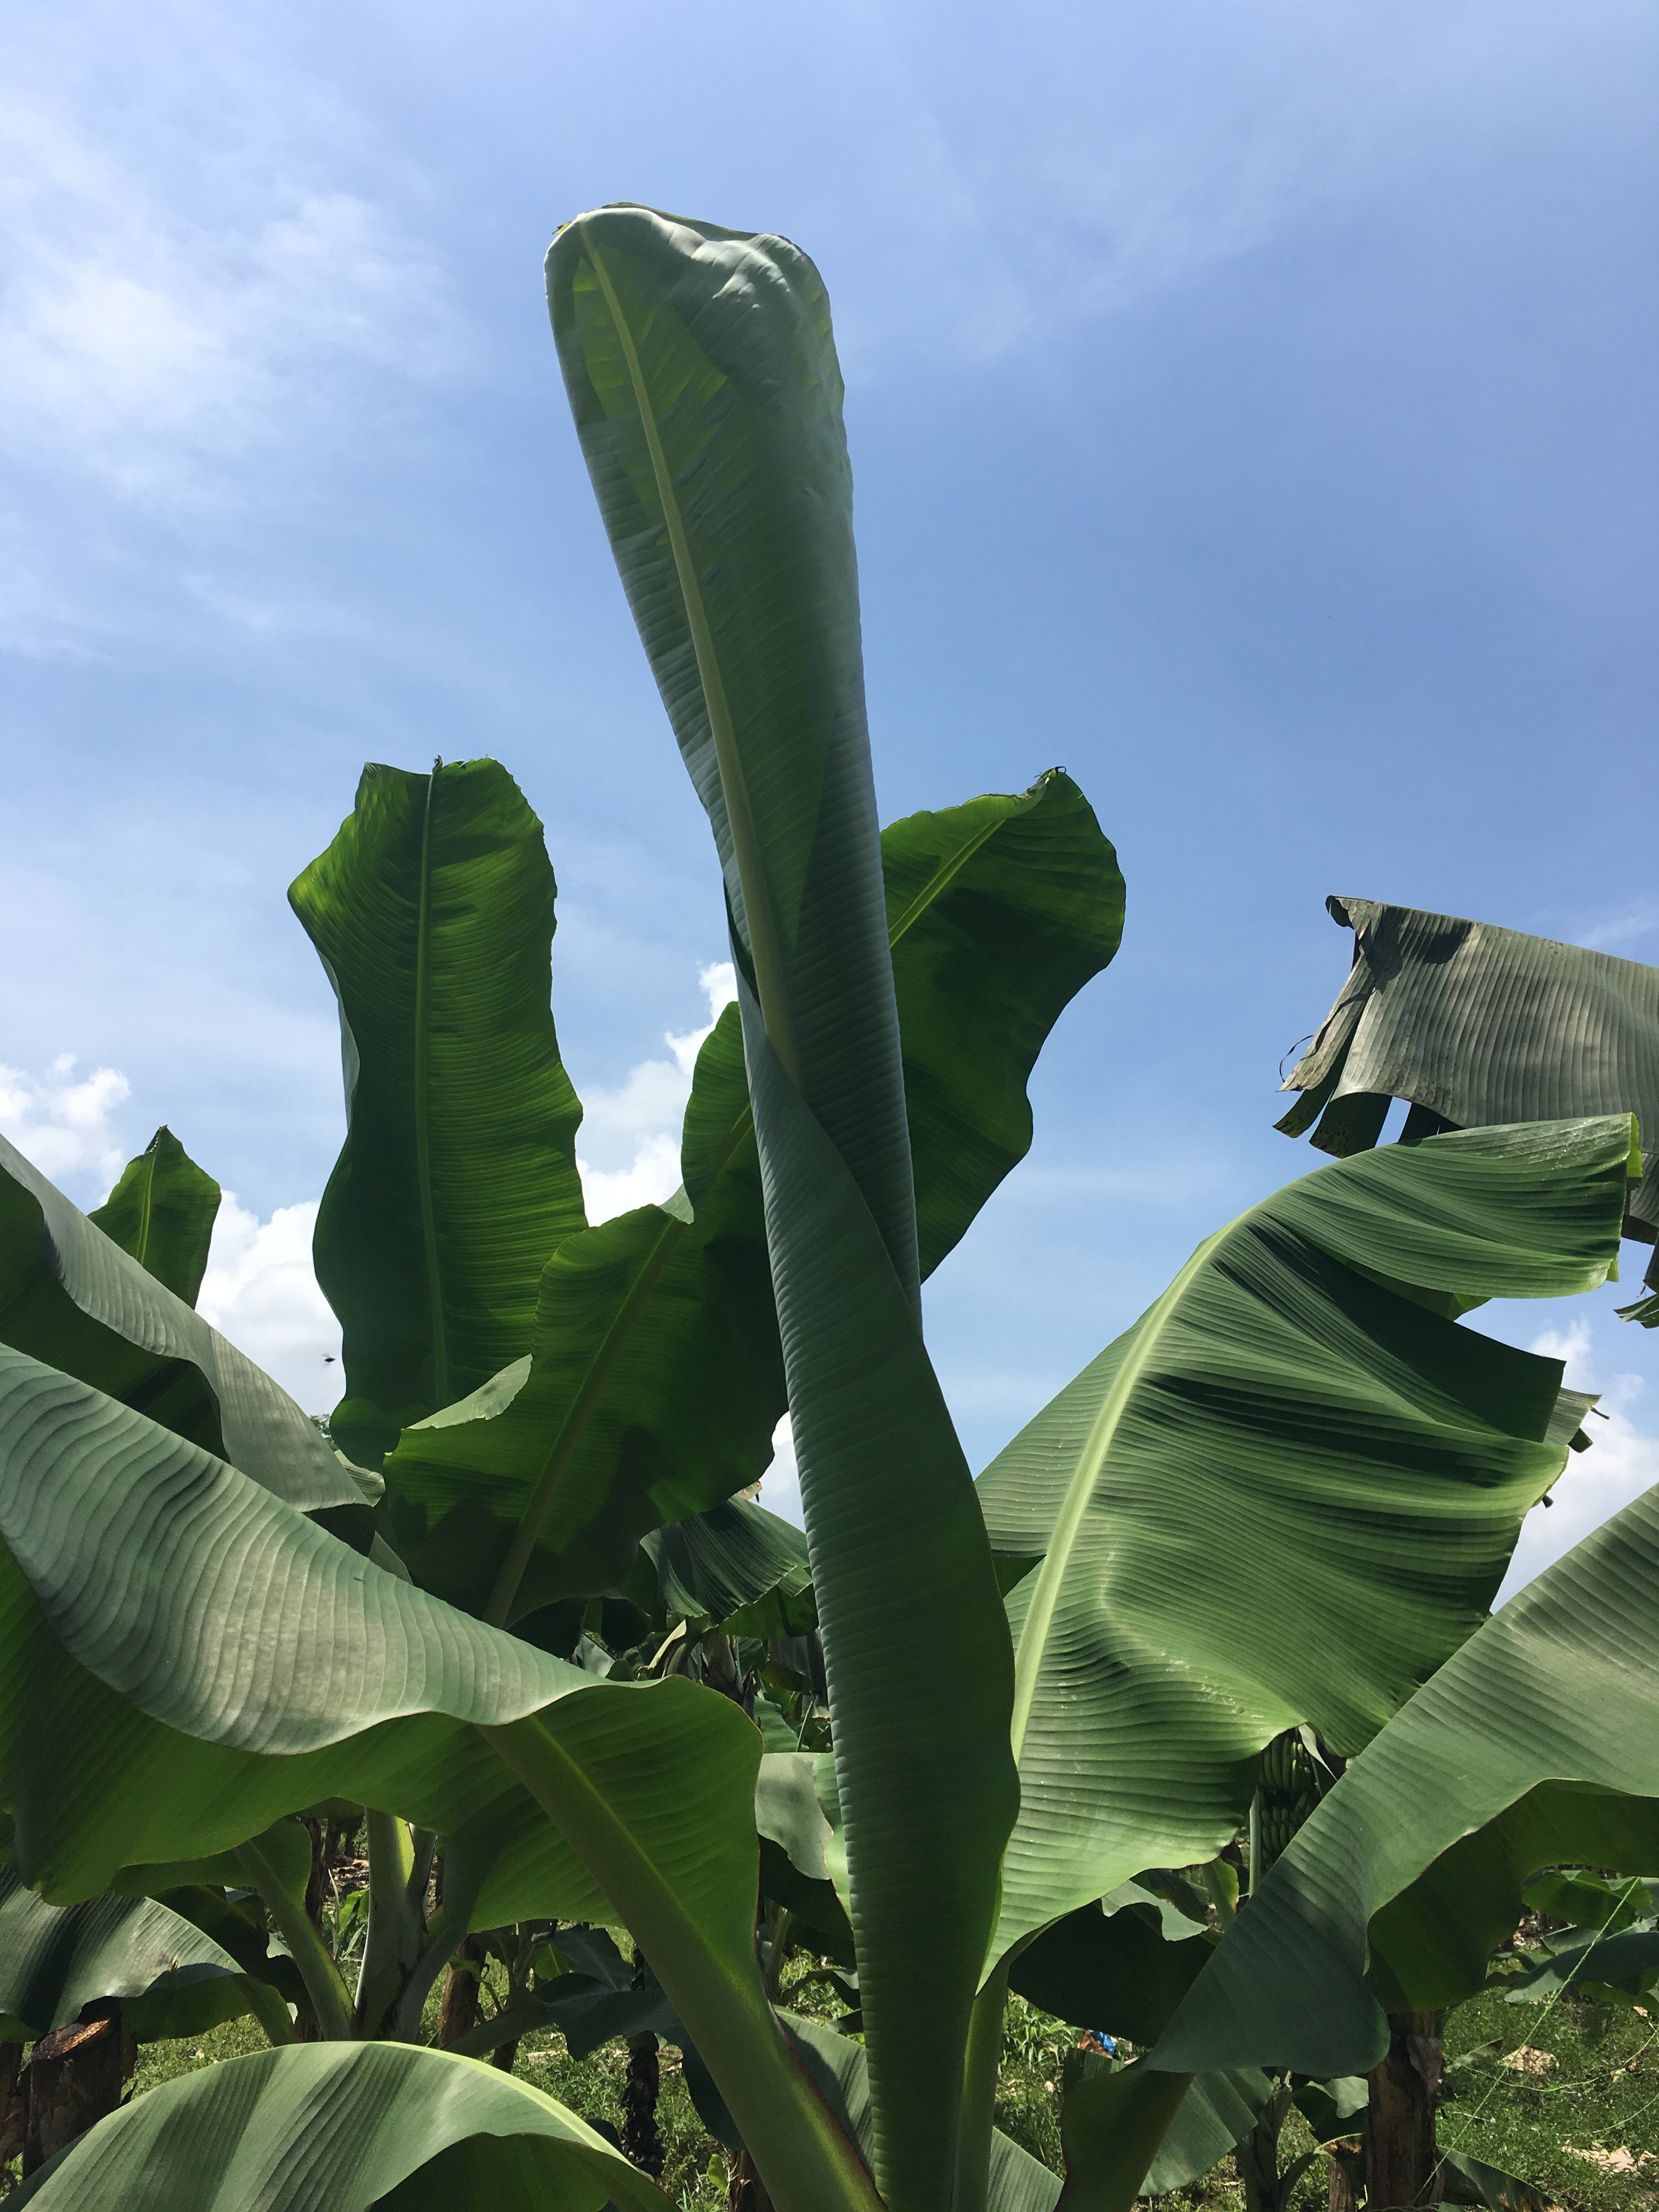candleleafs: (538, 204, 1023, 2027)
